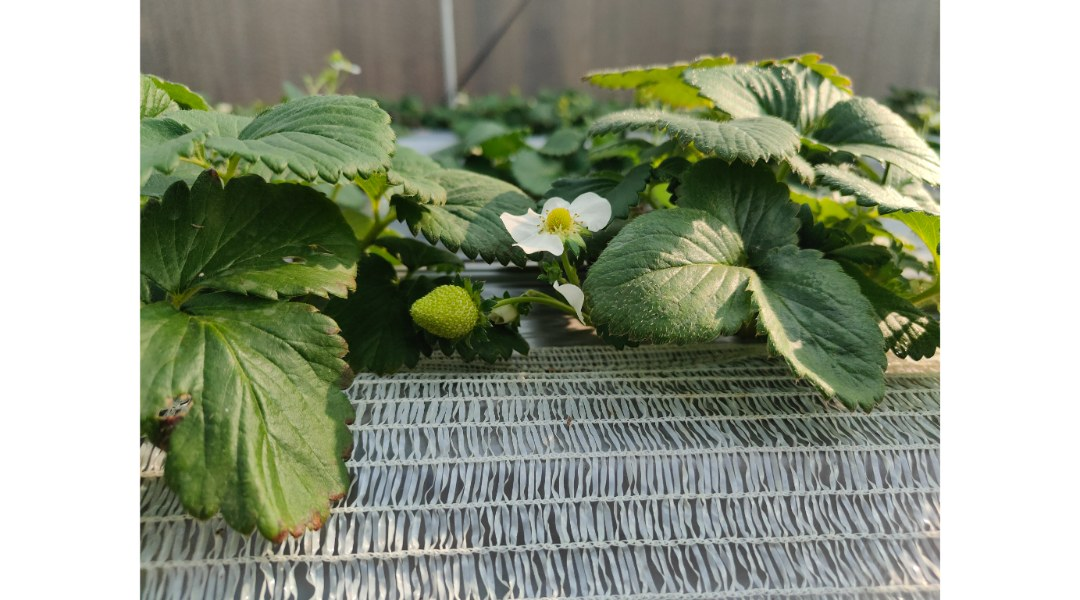berry: (393, 279, 479, 342)
flower: (484, 176, 626, 269)
strain: (485, 289, 571, 317)
